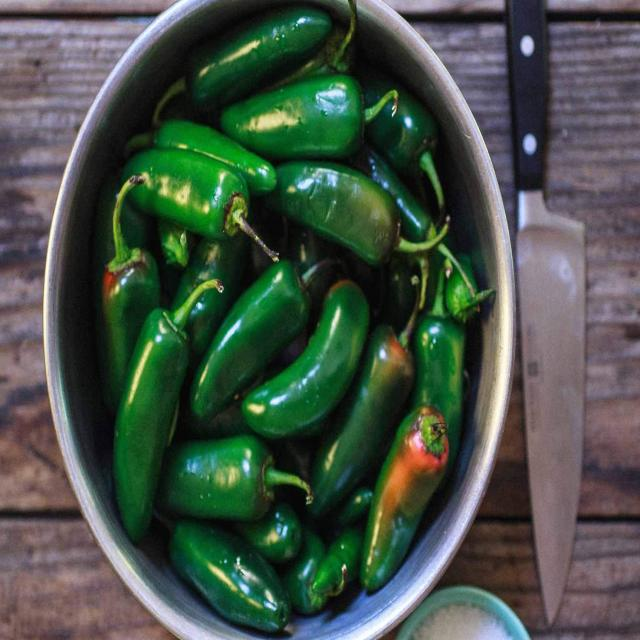aji: (94, 55, 472, 589)
